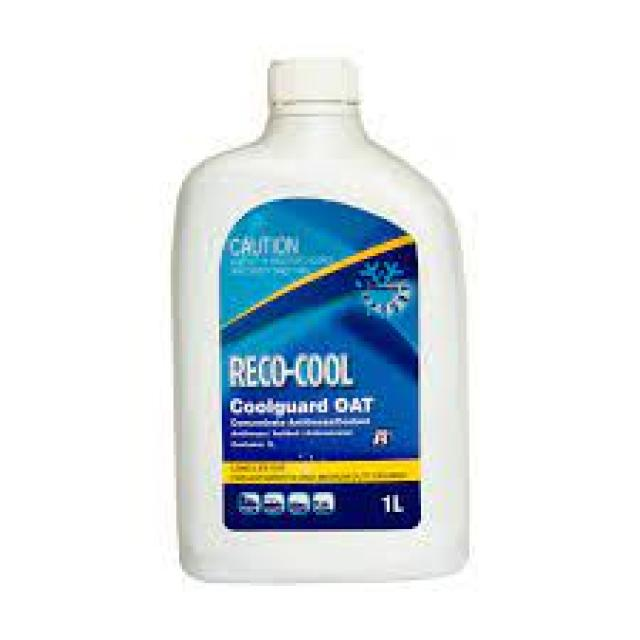coolant: (162, 50, 478, 596)
